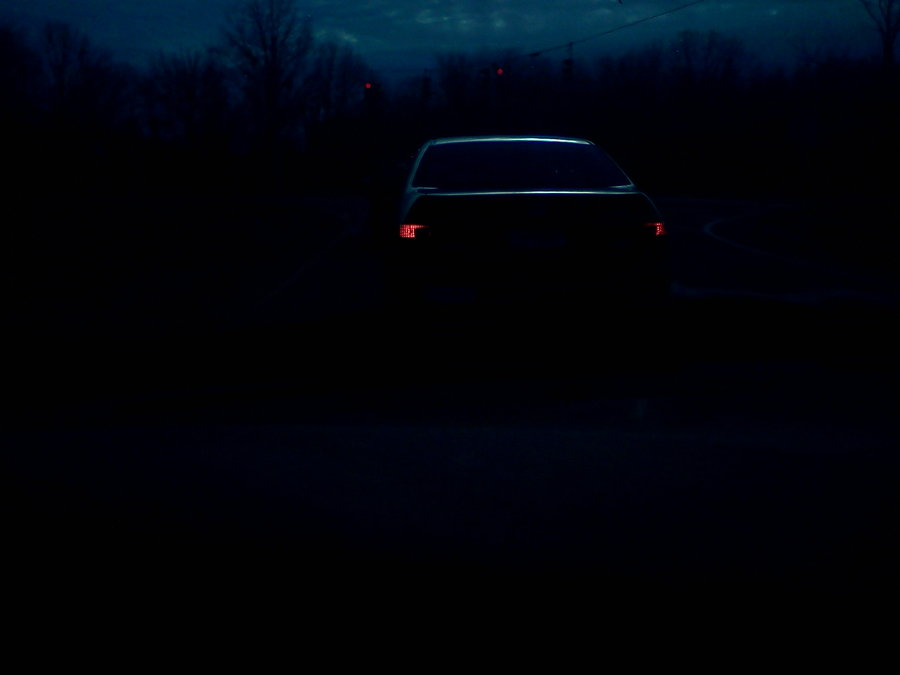car: (378, 122, 683, 335)
